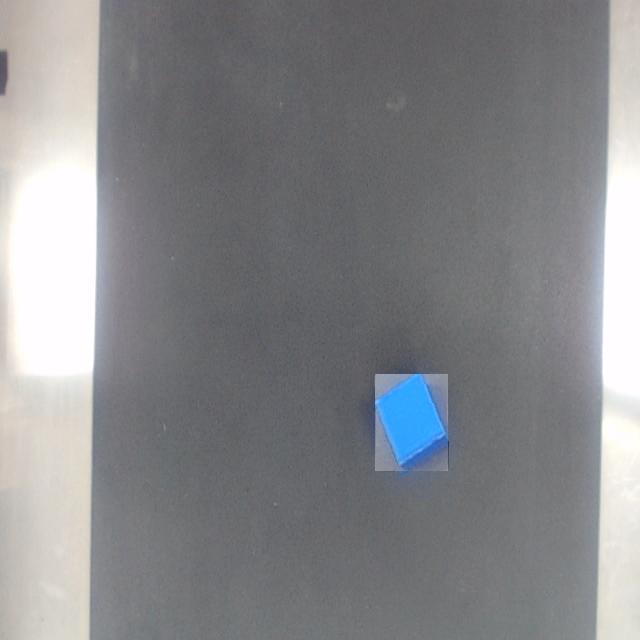Azul: (375, 374, 448, 471)
